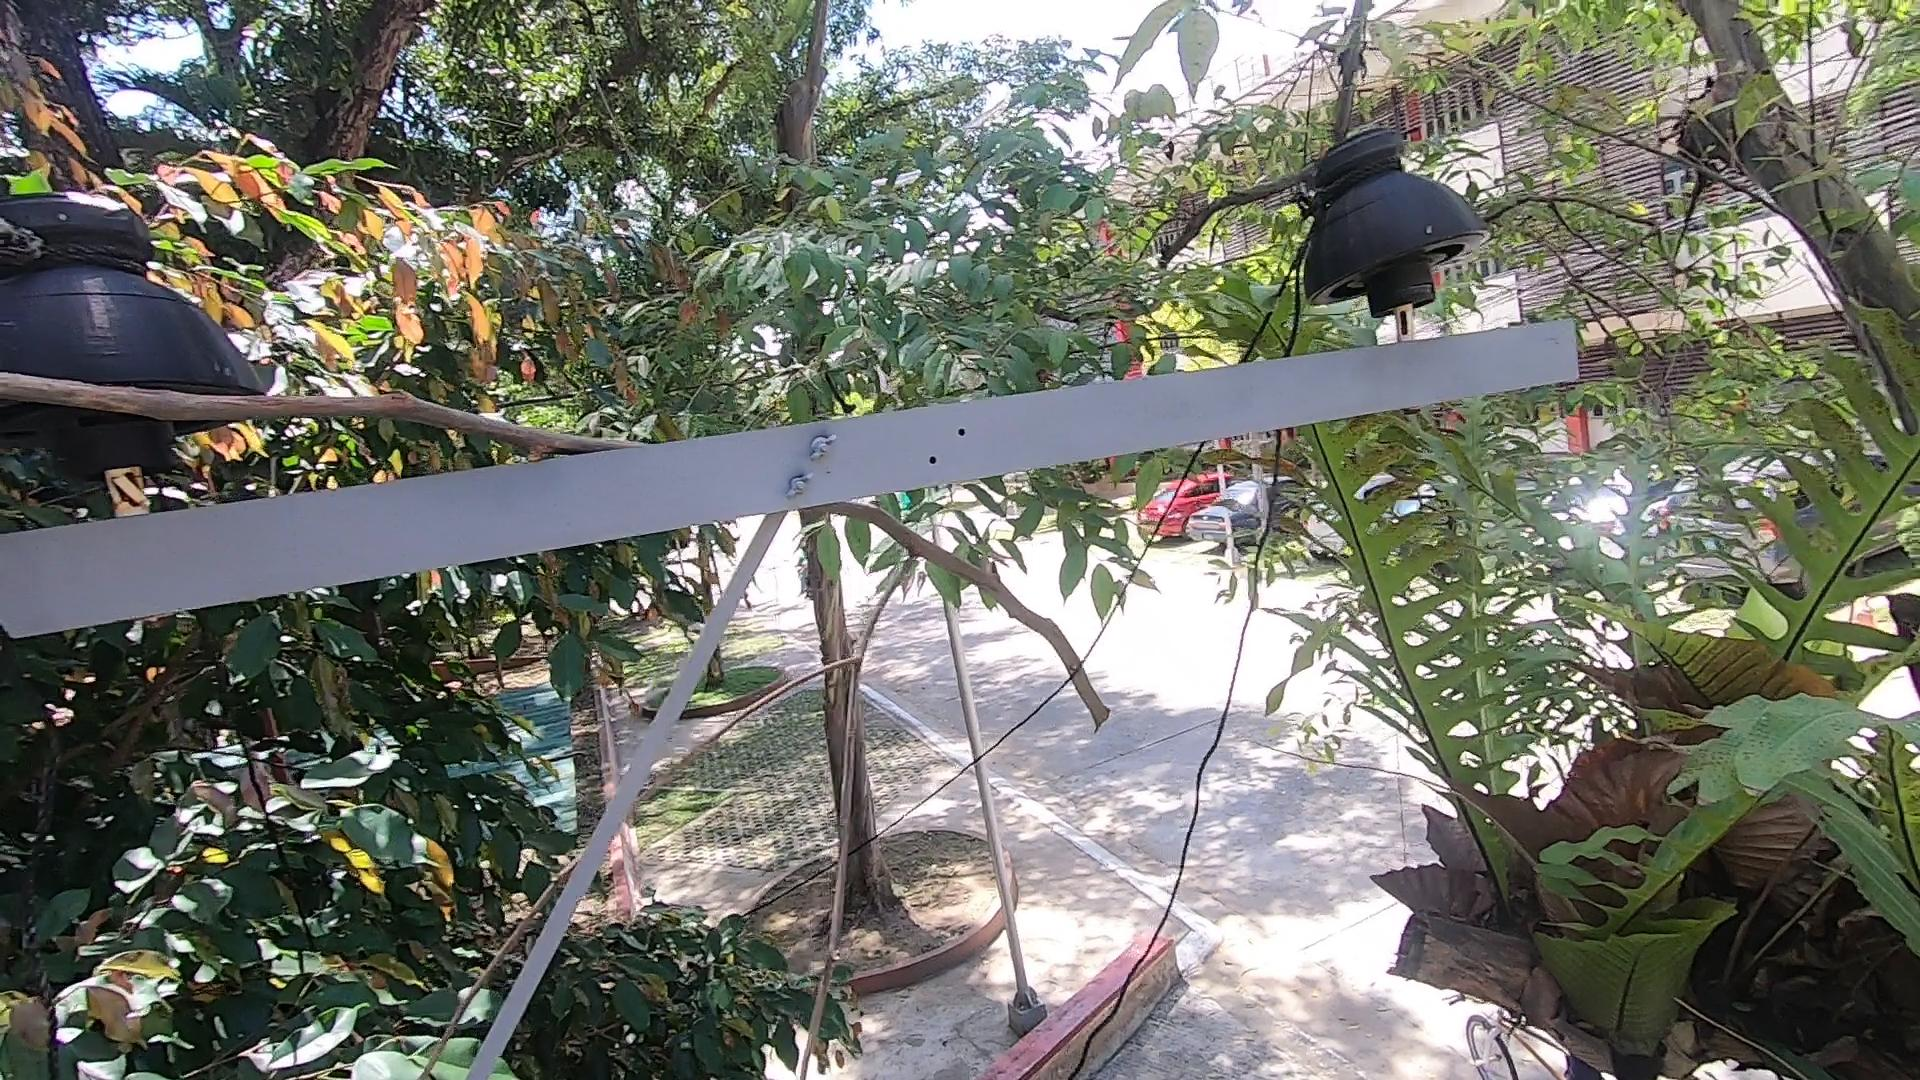tree branch: (646, 497, 1112, 1080), (1, 365, 636, 467), (404, 861, 575, 1080)
